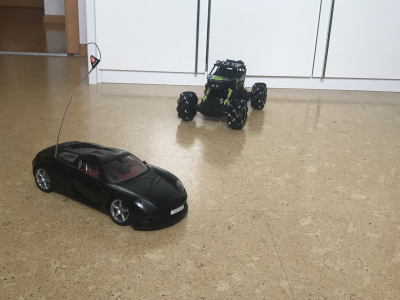remote control car: (175, 56, 270, 131)
